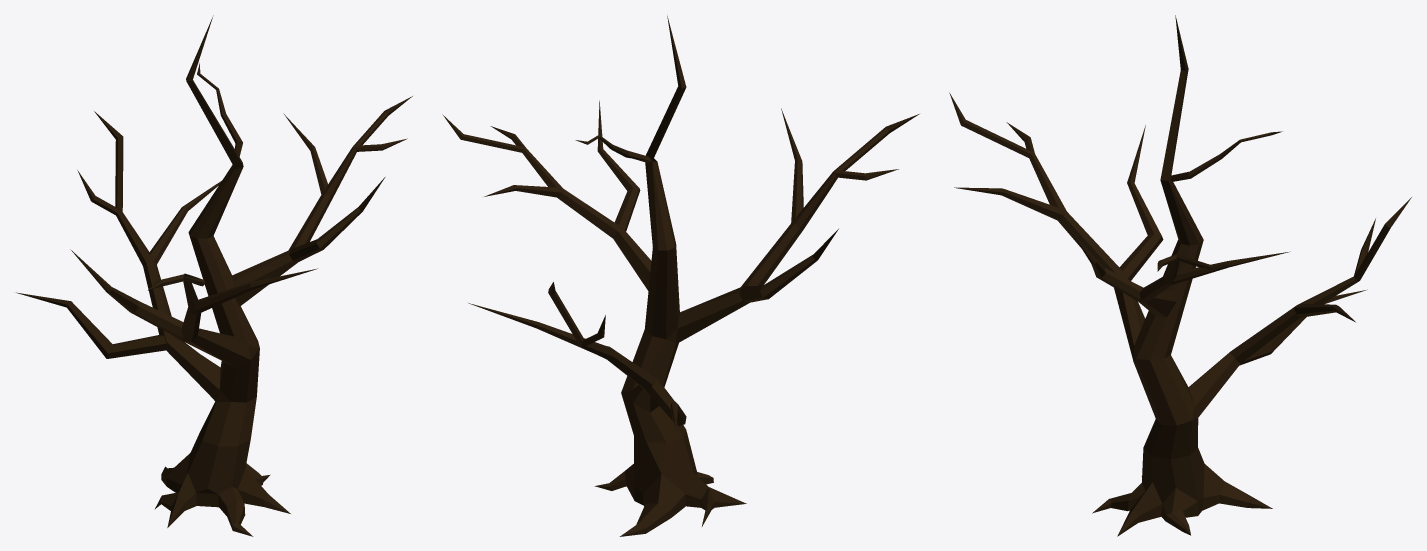
File: tree4_noLeaves.FBX
The picture shows the model from 3 angles, left to right: view 1: azimuth 30°, elevation 25°; view 2: azimuth 150°, elevation 25°; view 3: azimuth 270°, elevation 25°; orthographic projection.
Parts seen in each view (by area): view 1: treeNoLeaves; view 2: treeNoLeaves; view 3: treeNoLeaves.
Part boxes in pixels (bbox=[...]): treeNoLeaves: bbox=[16, 15, 412, 536]; treeNoLeaves: bbox=[442, 16, 919, 536]; treeNoLeaves: bbox=[949, 15, 1411, 536].
Size of the model in its own units: 292 by 371 by 311.
